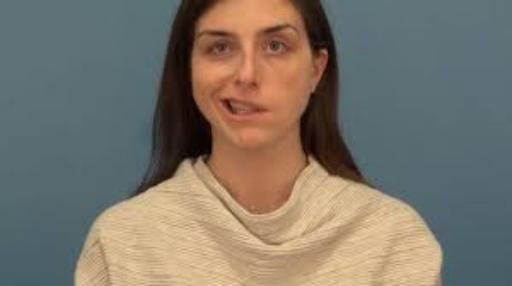left_eye: (264, 43, 292, 56)
left_lip_corner: (257, 105, 273, 116)
right_eye: (205, 42, 233, 56)
right_lip_corner: (217, 95, 228, 106)
